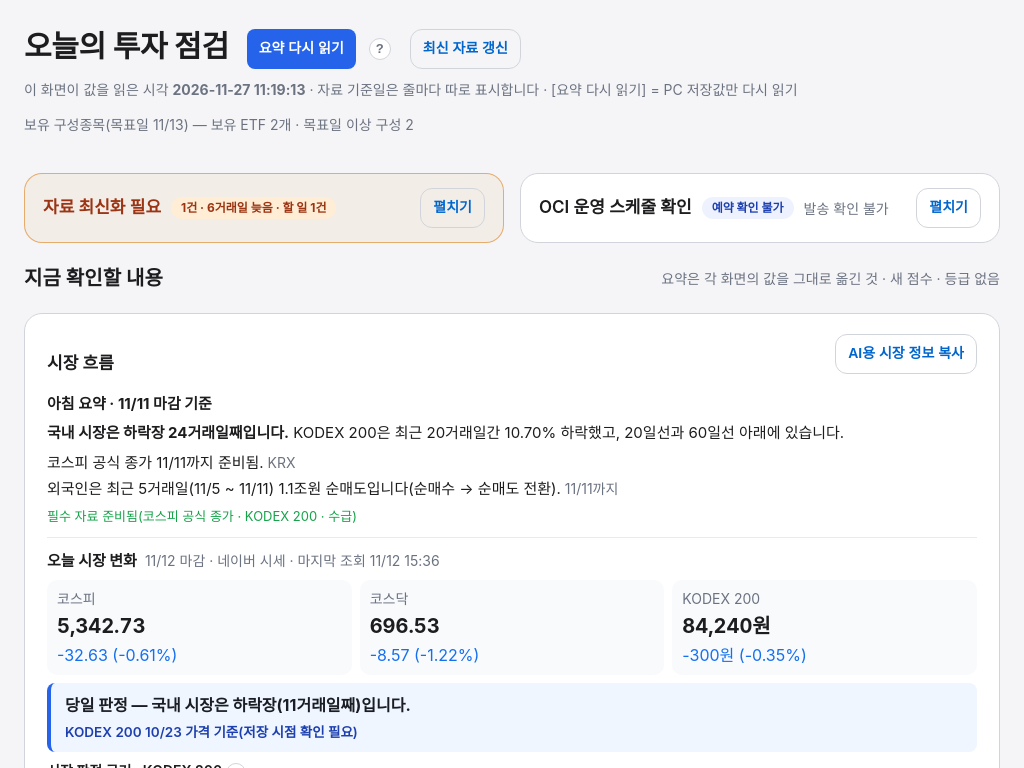
Test case: POC6-16 · POC6-27 지금 확인할 내용 › 판정 Q3 — [이 자료로 계속] = 창에 보인 같은 결과 반영(다시 조회 없음) · 완료 표시
Expected: the element with test id "tc-now-regime" is shown, [47,683,977,752]
Click the button "요약 다시 읽기".
click(301, 48)  # box [247,28,356,68]
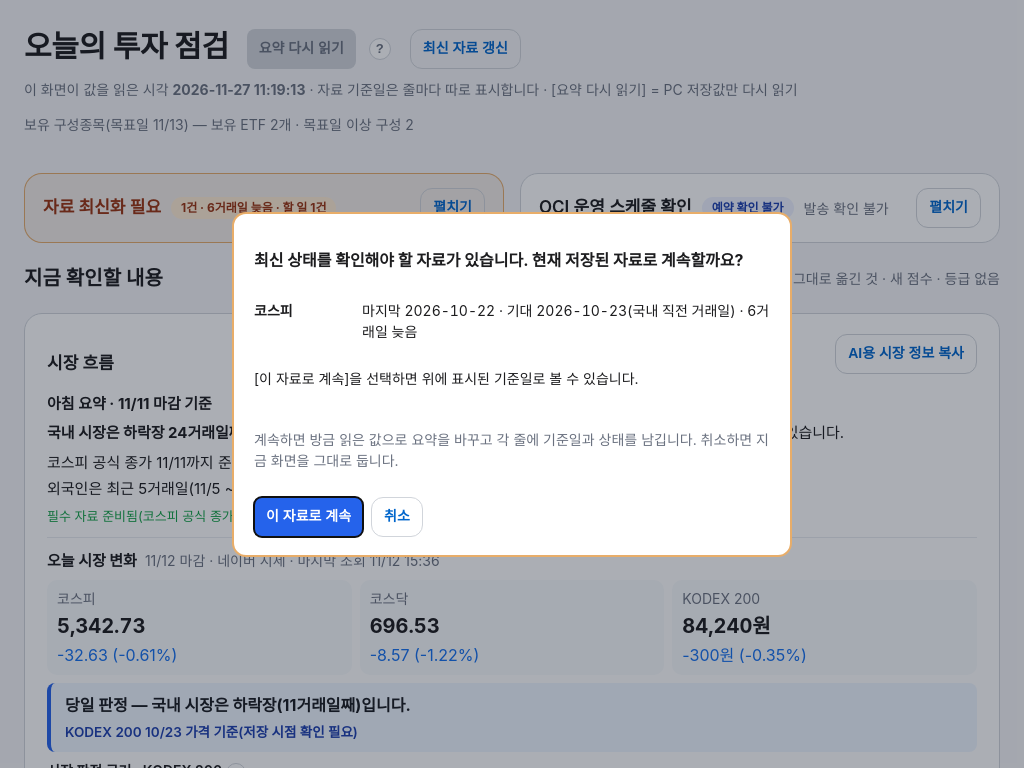
Click the button "이 자료로 계속".
click(309, 516)  # box [254,496,363,536]
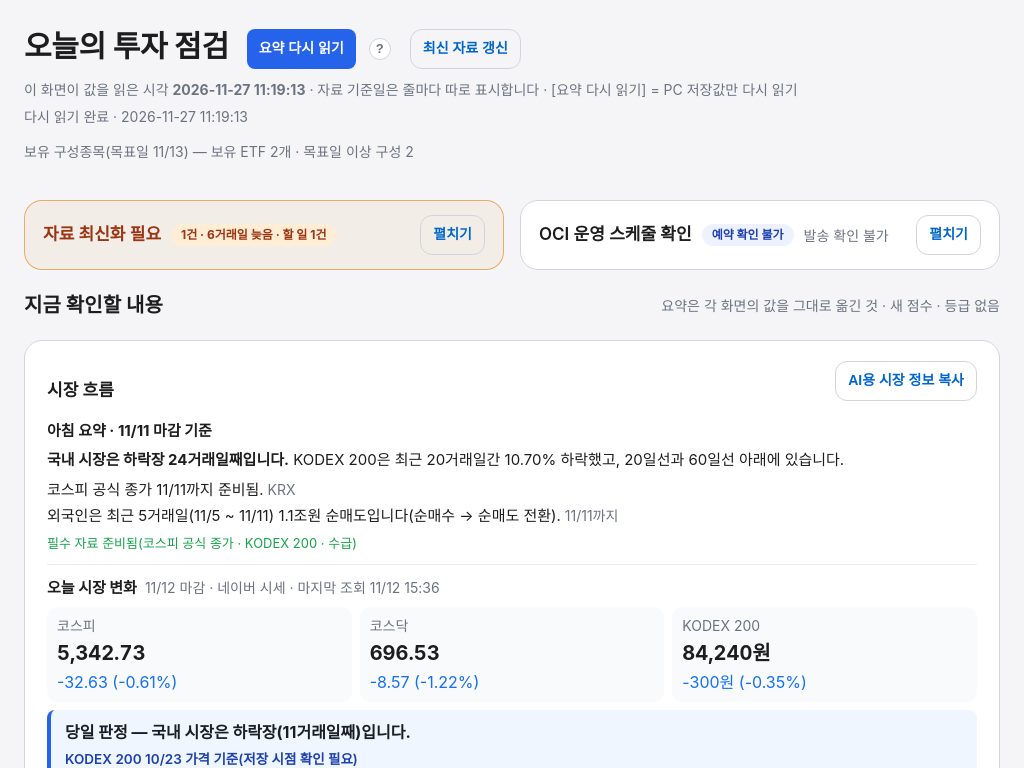
Expected: the text with test id "tc-reload-state" shows "다시 읽기 완료 ·", [24,108,248,125]
